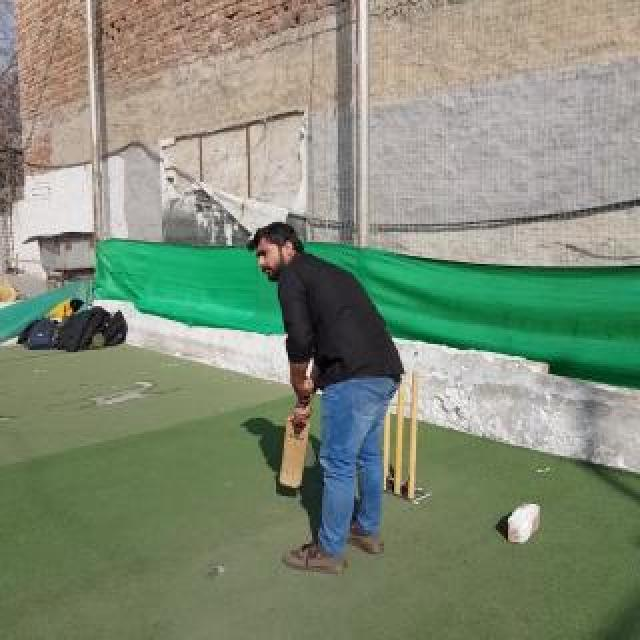bat: (279, 398, 311, 488)
